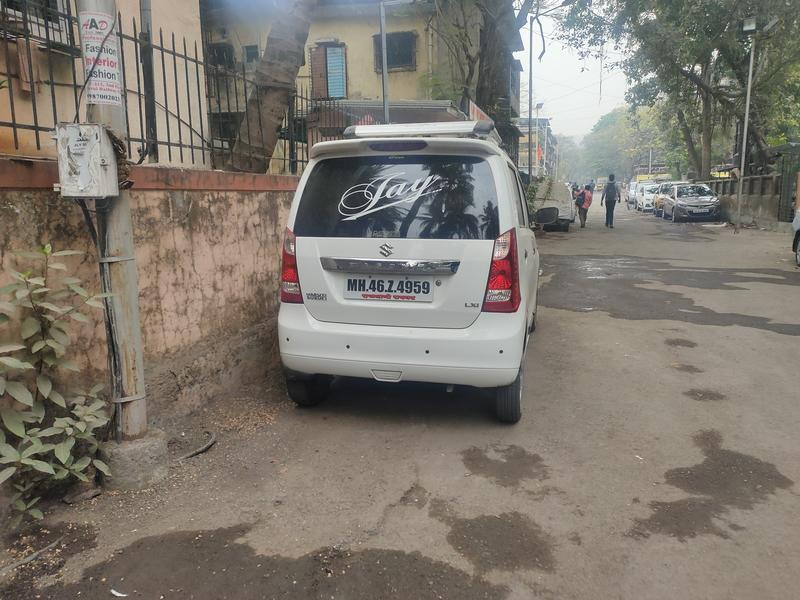license_plate: (337, 269, 444, 314)
